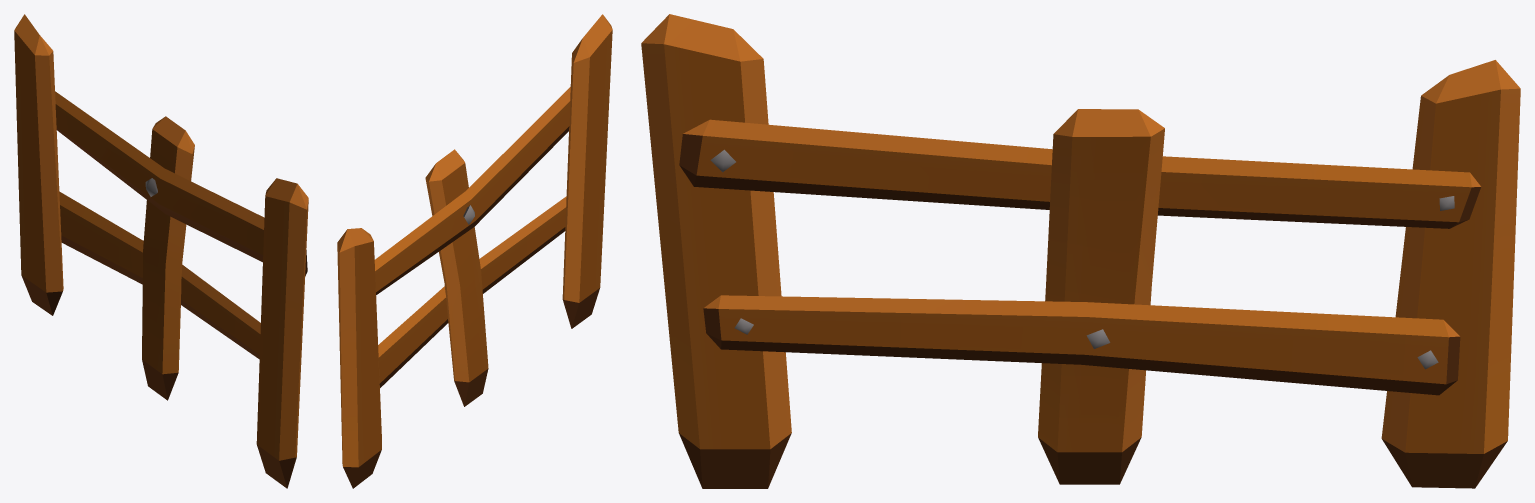
File: wm_fence02_glb.glb
The picture shows the model from 3 angles, left to right: view 1: azimuth 30°, elevation 25°; view 2: azimuth 150°, elevation 25°; view 3: azimuth 270°, elevation 25°; orthographic projection. The views are drawn at different scales.
Parts seen in each view (by area): view 1: wm_fence02; view 2: wm_fence02; view 3: wm_fence02.
Boxes of the visible parts, left/top/right/bottom form: wm_fence02: left=14, top=14, right=308, bottom=488; wm_fence02: left=337, top=14, right=612, bottom=488; wm_fence02: left=641, top=14, right=1520, bottom=488.
Size of what is drawn, in the model's own units: 0.1967 by 1.48 by 2.48.
Materials: 1 (1 with a texture image).
